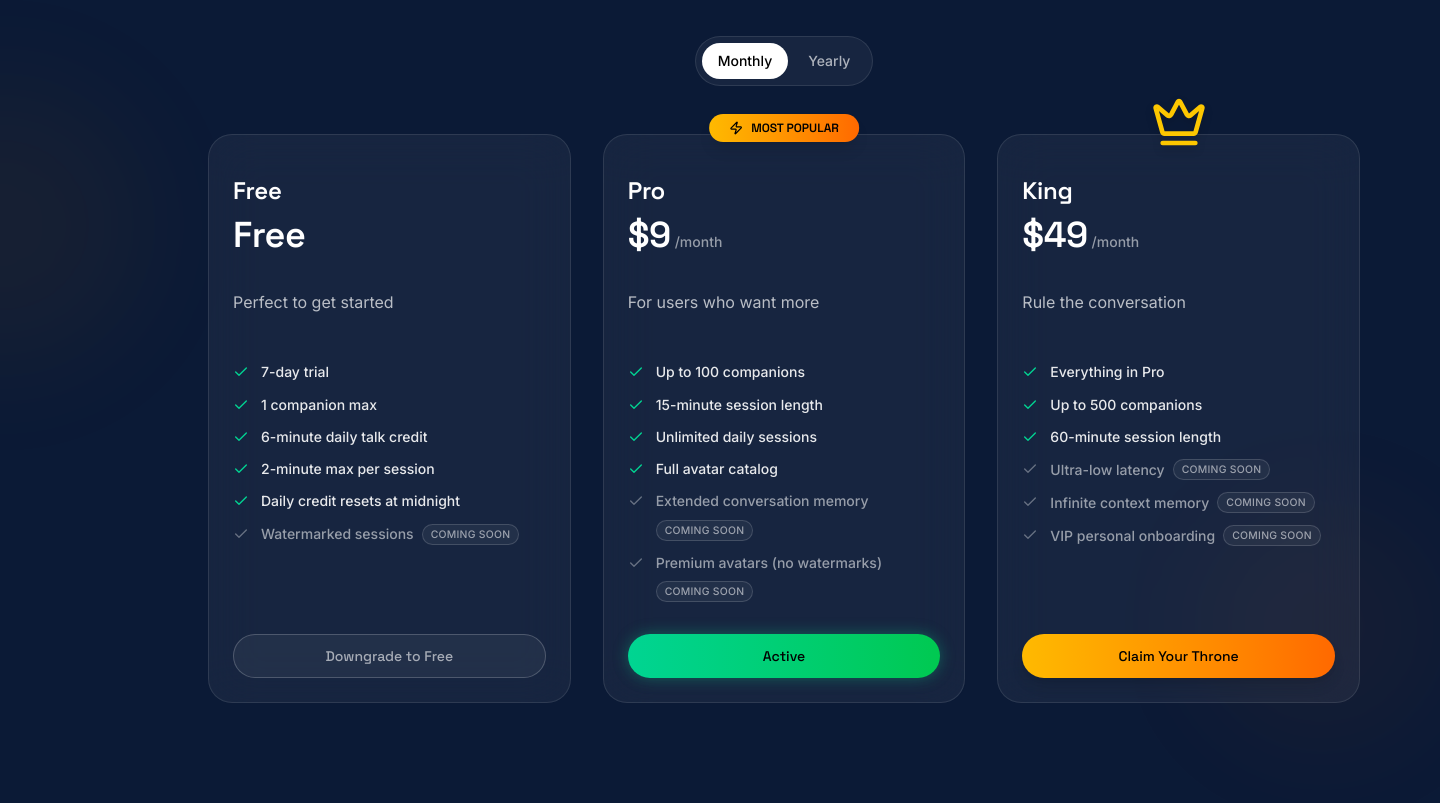
PricingPage › cancels a paid subscription and refreshes the plan
This screenshot has width=1440, height=803.
(page scrolled)
Click the button "Downgrade to Free".
click(389, 656)  # box [233,634,546,678]
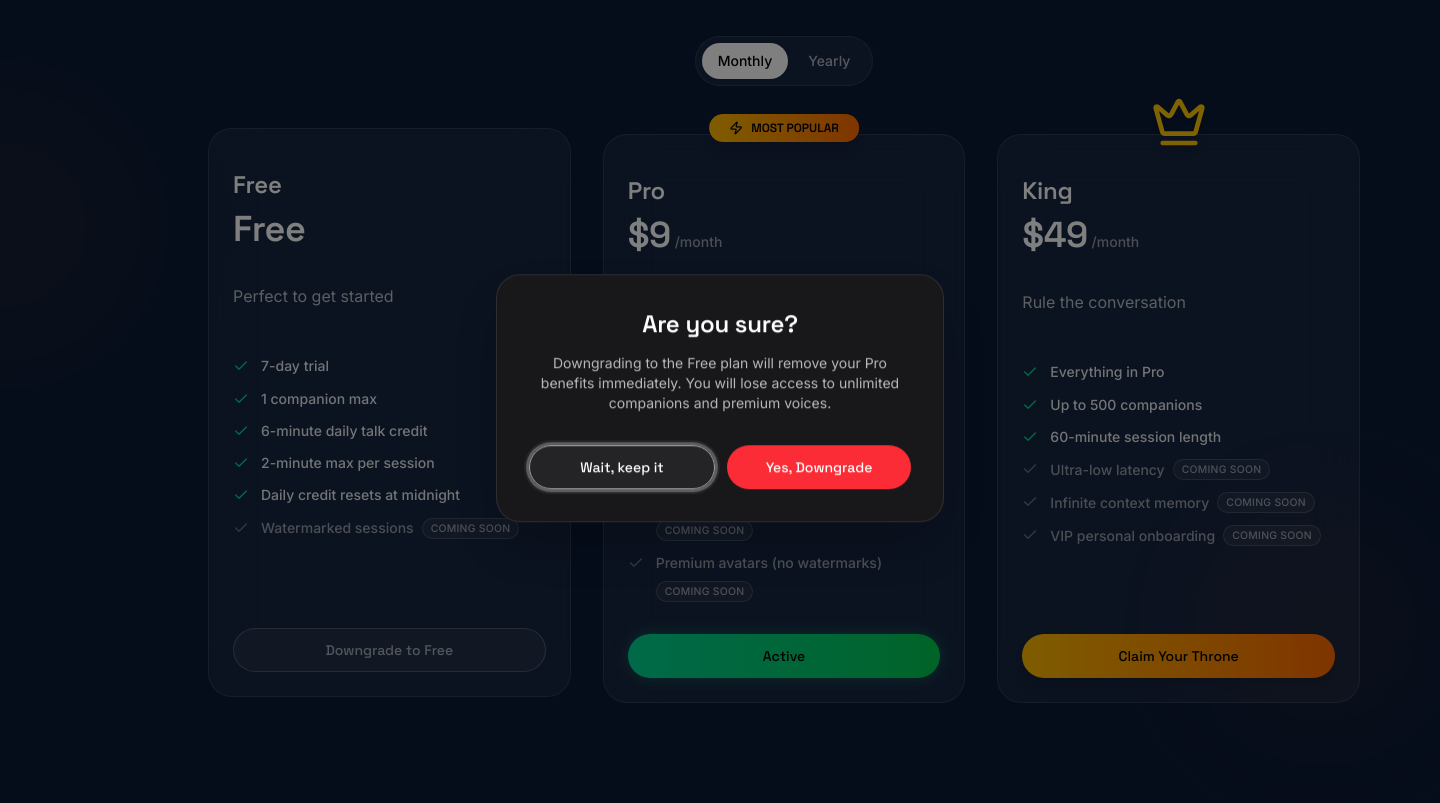
Click the button "Yes, Downgrade".
click(819, 467)  # box [727,445,911,489]
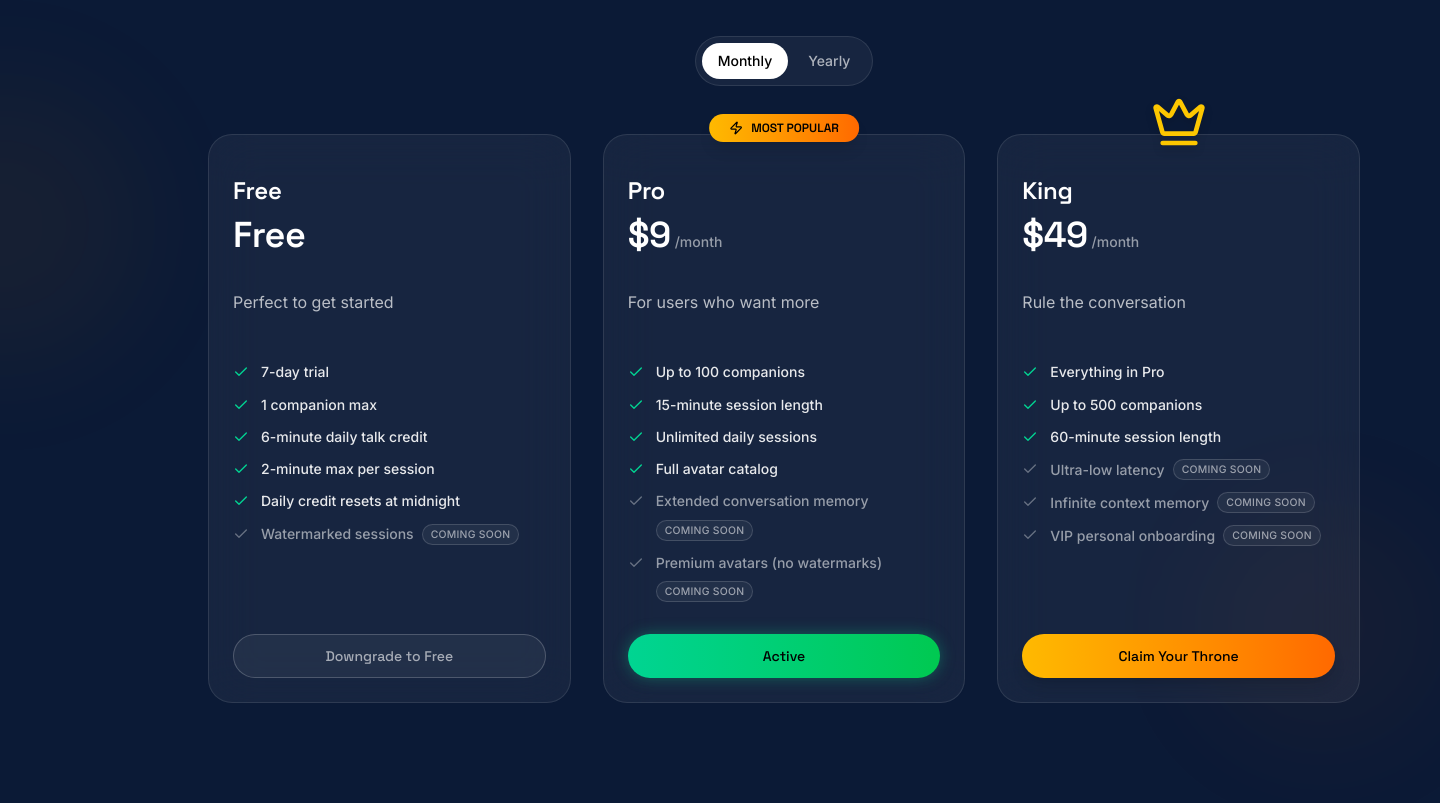
Result: the heading "Are you sure?" is gone
